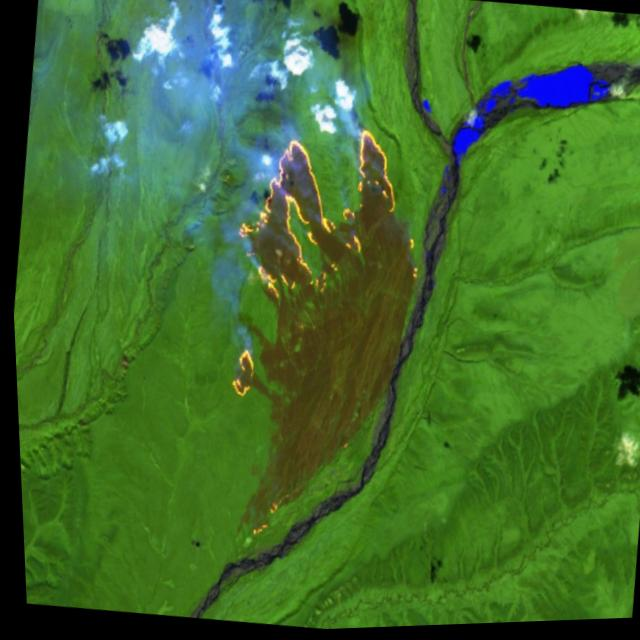fire: (218, 110, 408, 312), (217, 342, 262, 404), (240, 495, 281, 541)
